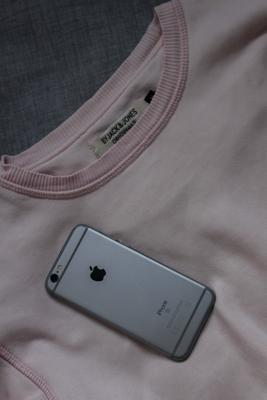cell-phone: (42, 224, 219, 366)
